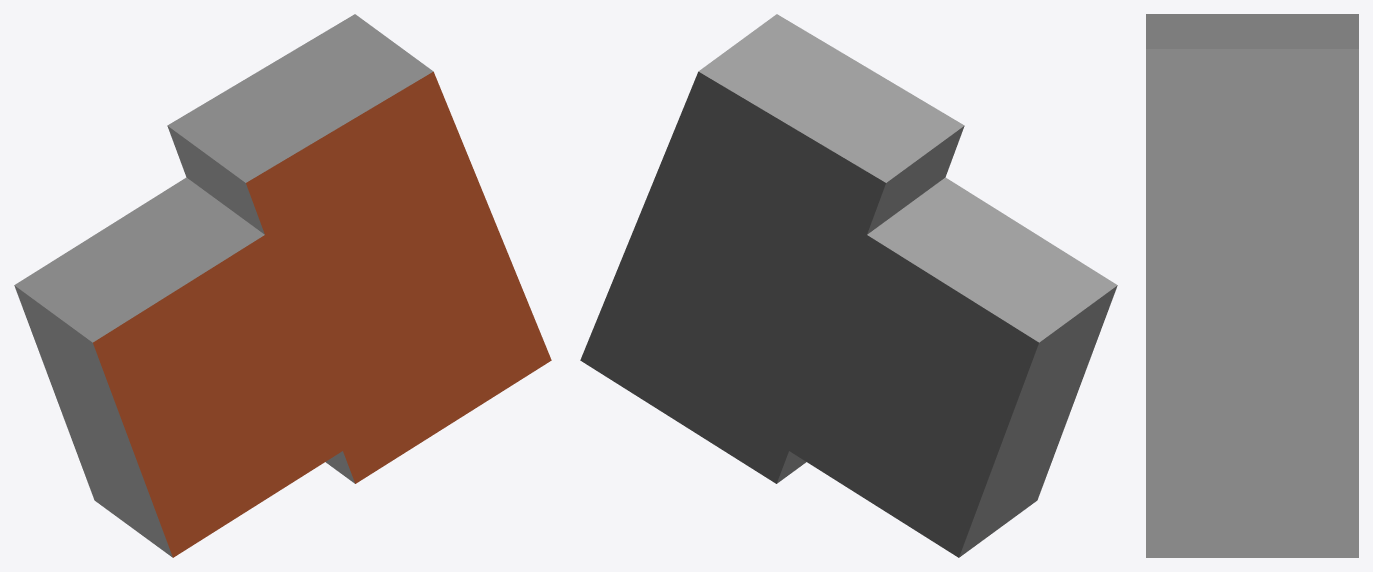
File: construction_0743_assumed_A_Casa_h6m.obj
The picture shows the model from 3 angles, left to right: view 1: azimuth 30°, elevation 25°; view 2: azimuth 150°, elevation 25°; view 3: azimuth 270°, elevation 25°; orthographic projection. The views are drawn at different scales.
Visible parts, largest first — view 1: construction_0743_assumed_A_Casa; view 2: construction_0743_assumed_A_Casa; view 3: construction_0743_assumed_A_Casa.
Boxes of the visible parts, x1,y1,x2,y2 form: construction_0743_assumed_A_Casa: (14, 14, 551, 557); construction_0743_assumed_A_Casa: (580, 14, 1117, 557); construction_0743_assumed_A_Casa: (1146, 14, 1358, 557).
Bounding box in the file's own units: 20.25 × 17.83 × 6.
